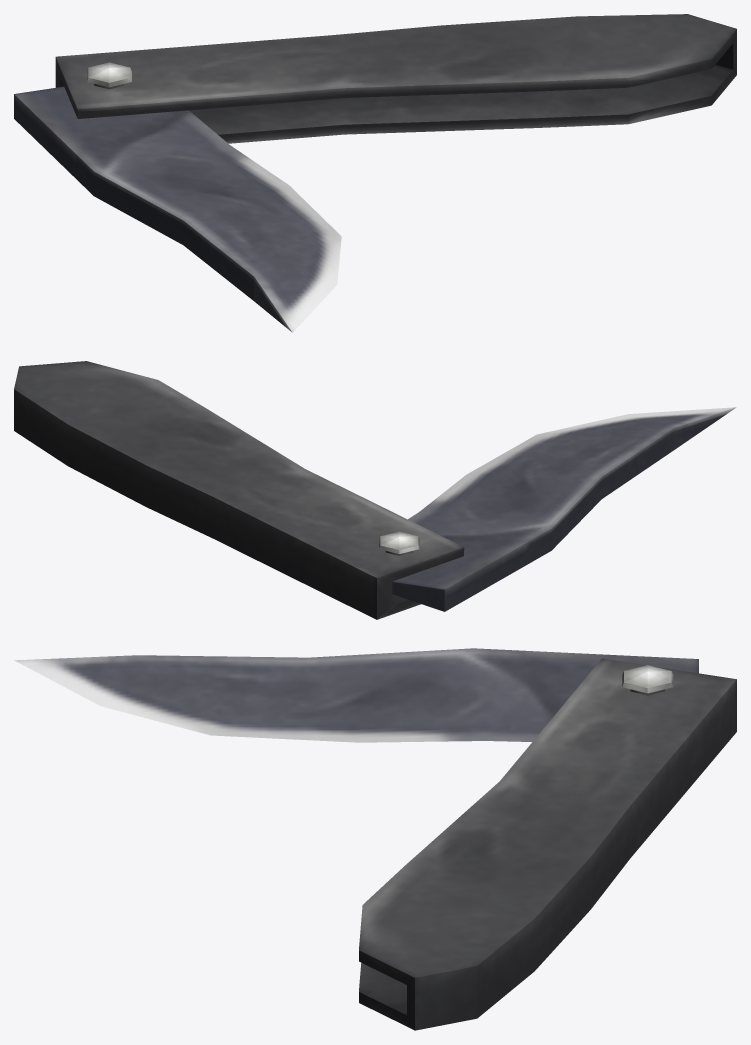
Rendered from PiErSenGongYu_01_zhedao_01.FBX.
The picture shows the model from 3 angles, top to bottom: view 1: azimuth 30°, elevation 25°; view 2: azimuth 150°, elevation 25°; view 3: azimuth 270°, elevation 25°; orthographic projection. The views are drawn at different scales.
Visible parts, largest first — view 1: PiErSenDeGongYu_zhedao_01; view 2: PiErSenDeGongYu_zhedao_01; view 3: PiErSenDeGongYu_zhedao_01.
Boxes of the visible parts, <box> form: PiErSenDeGongYu_zhedao_01: <box>14,14,736,332</box>; PiErSenDeGongYu_zhedao_01: <box>14,361,736,619</box>; PiErSenDeGongYu_zhedao_01: <box>14,648,736,1030</box>.
Size of the model in its own units: 59.22 by 5.59 by 52.6.
